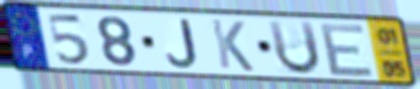5: (44, 12, 92, 66)
8: (96, 14, 139, 67)
E: (318, 22, 378, 78)
J: (164, 18, 201, 69)
K: (208, 17, 257, 74)
U: (265, 18, 324, 78)
